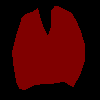felpa: (12, 6, 85, 90)
